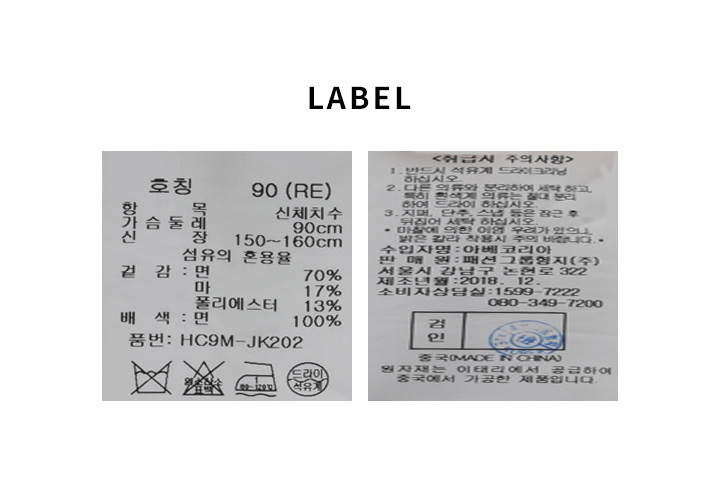KR_dry_clean_petroleum: (284, 356, 334, 399)
KR_iron_low_temp_with_cloth: (231, 355, 281, 399)
KR_no_bleach: (179, 357, 227, 399)
KR_no_wash: (128, 355, 173, 396)
